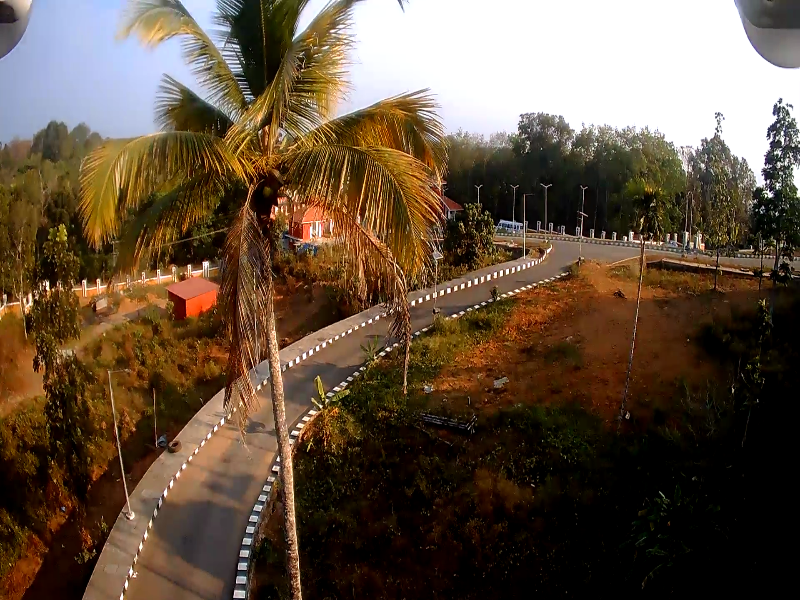coconut: (260, 186, 273, 198)
